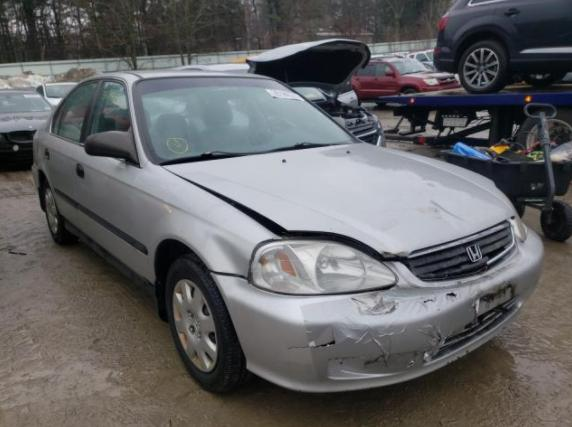Back-bumper: (31, 164, 43, 209)
Back-door: (43, 79, 102, 235)
Back-wheel: (43, 186, 68, 241)
Back-window: (53, 83, 98, 142)
Fender: (133, 160, 282, 285)
Front-bumper: (211, 224, 544, 393)
Front-door: (74, 78, 141, 275)
Front-wheel: (167, 261, 245, 389)
Front-window: (91, 82, 129, 133)
Grille: (404, 221, 512, 279)
Headlight: (252, 239, 396, 295), (507, 200, 525, 242)
Hood: (162, 142, 514, 255)
Mirror: (84, 127, 137, 164)
Quarter-panel: (33, 126, 60, 212)
Rocker-panel: (60, 214, 154, 294)
Roof: (96, 69, 270, 79)
Windshield: (135, 78, 358, 164)
